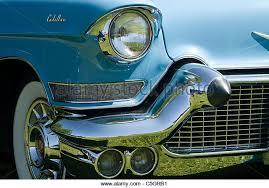Bumper: (41, 76, 228, 158)
